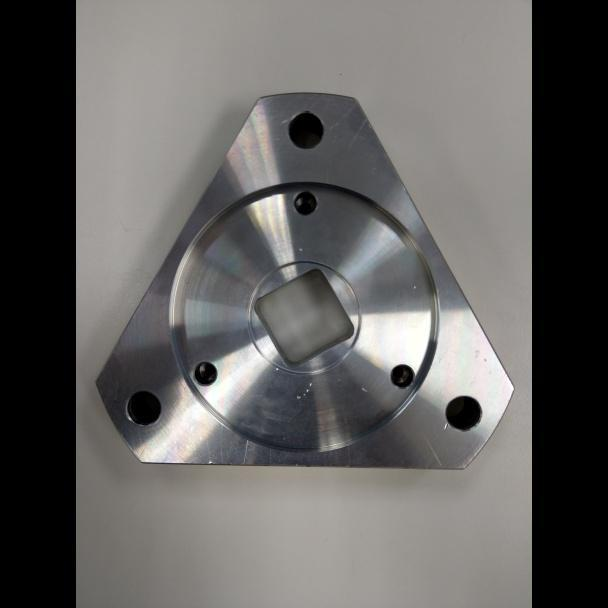hole: (441, 393, 486, 434), (285, 109, 327, 151), (122, 386, 163, 427), (290, 187, 320, 219), (190, 359, 220, 389), (388, 361, 417, 391)
